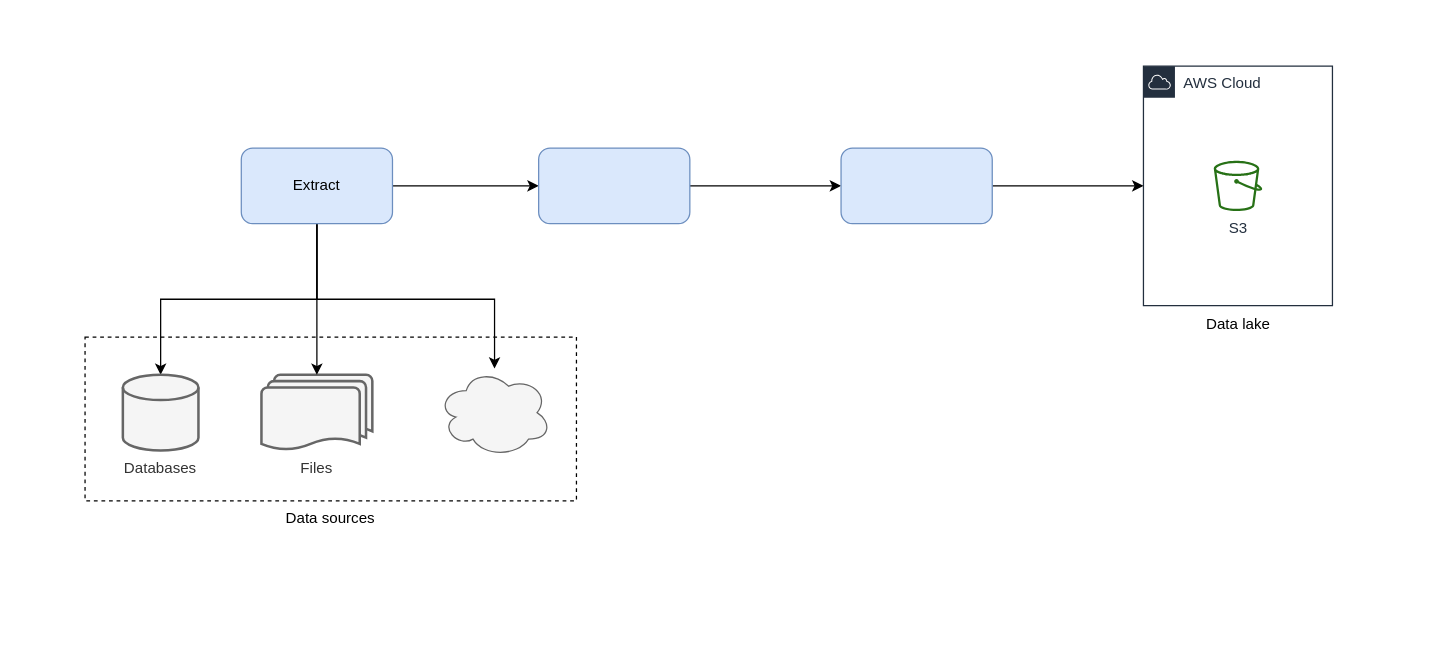
The diagram is 1441 pixels wide and 648 high, and some of its shapes have lost their labels. Each missing label, with the centre of its shape:
"APIs" belongs at [494,412].
"Load" belongs at [916,185].
"Transform" belongs at [613,185].
